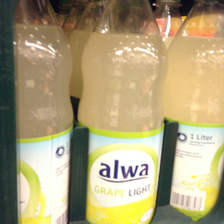soda: (79, 1, 169, 224), (14, 1, 75, 223), (166, 1, 224, 213)
